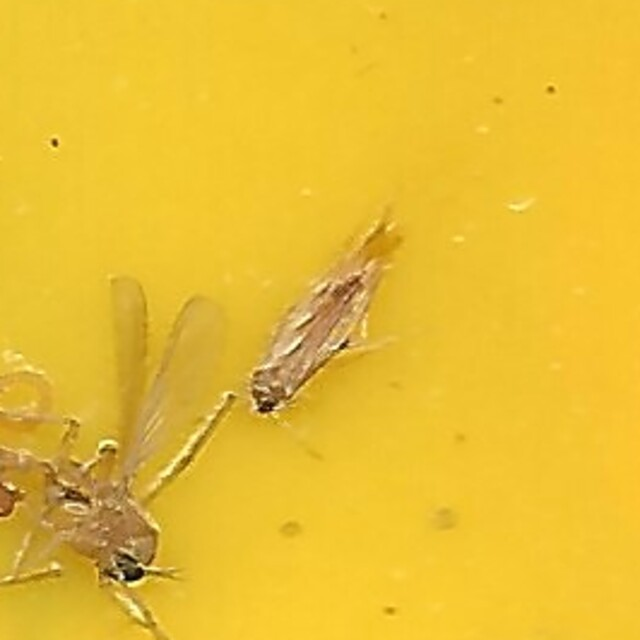Trichoptera: (241, 220, 399, 420)
